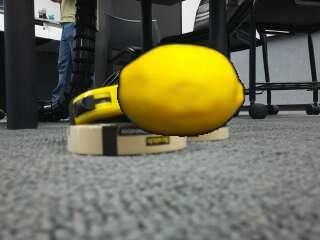lemon: (122, 46, 246, 137)
